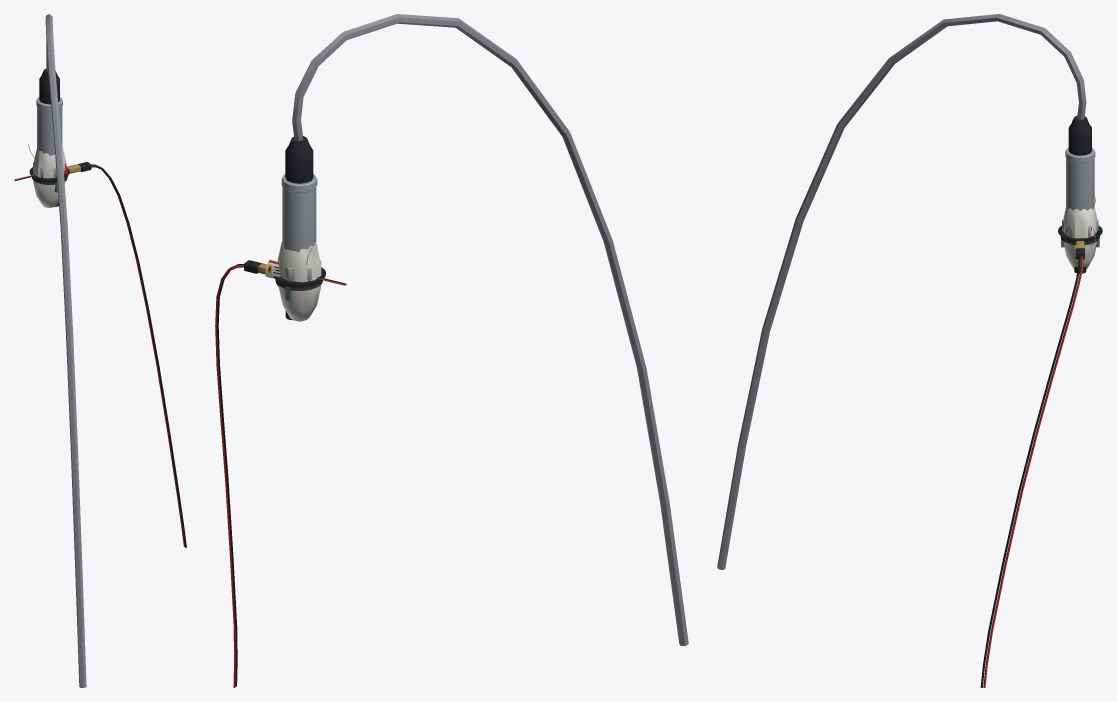
The model's file is kit.glb.
3 views of the same model, side by side, from view 1: azimuth 30°, elevation 25°; view 2: azimuth 150°, elevation 25°; view 3: azimuth 270°, elevation 25° (orthographic). The views are drawn at different scales.
Visible parts, largest first — view 1: transducer, igniter, camShroud; view 2: transducer, camShroud, igniter; view 3: transducer, igniter, camShroud.
Boxes of the visible parts, bbox=[...] form: transducer: bbox=[33, 14, 86, 687]; igniter: bbox=[14, 162, 186, 547]; camShroud: bbox=[33, 147, 65, 208]; transducer: bbox=[278, 14, 688, 645]; camShroud: bbox=[277, 241, 321, 321]; igniter: bbox=[215, 260, 346, 687]; transducer: bbox=[717, 14, 1098, 569]; igniter: bbox=[980, 241, 1084, 687]; camShroud: bbox=[1063, 206, 1097, 273].
Bounding box in the file's own units: 19.24 × 44.57 × 25.77.
